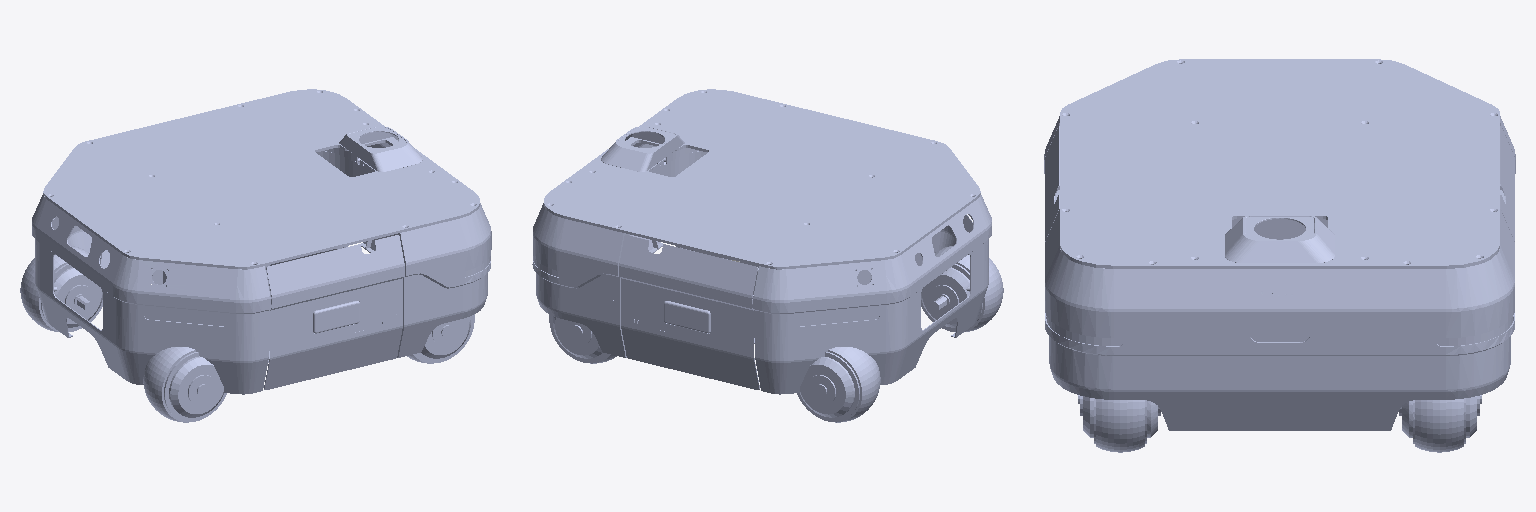
robot.urdf — ranger_air_description:
<?xml version="1.0" encoding="utf-8"?>
<!-- This URDF was automatically created by SolidWorks to URDF Exporter! Originally created by [author] ([email redacted]) 
     Commit Version: 1.6.0-1-g15f4949  Build Version: 1.6.7594.29634
     For more information, please see http://wiki.ros.org/sw_urdf_exporter -->
<robot
  name="ranger_air_description">
  <link
    name="base_link">
    <inertial>
      <origin
        xyz="-0.0269453553477971 4.88289151054452E-05 0.138776943804503"
        rpy="0 0 0" />
      <mass
        value="9.62557497725158" />
      <inertia
        ixx="0.0836578300249299"
        ixy="-0.00247163484979424"
        ixz="0.000109124201879488"
        iyy="0.0555064526888553"
        iyz="7.6528928799148E-07"
        izz="0.127512148927851" />
    </inertial>
    <visual>
      <origin
        xyz="0 0 0"
        rpy="0 0 0" />
      <geometry>
        <mesh
          filename="package://ranger_air_description/meshes/dae/base_link.dae" />
      </geometry>
      <material
        name="">
        <color
          rgba="0.792156862745098 0.819607843137255 0.933333333333333 1" />
      </material>
    </visual>
    <collision>
      <origin
        xyz="0 0 0"
        rpy="0 0 0" />
      <geometry>
        <mesh
          filename="package://ranger_air_description/meshes/dae/base_link.dae" />
      </geometry>
    </collision>
  </link>
  <link
    name="imu_link">
    <inertial>
      <origin
        xyz="-7.51173708920111E-05 7.51173708920406E-05 0.00149999999999999"
        rpy="0 0 0" />
      <mass
        value="0.000426" />
      <inertia
        ixx="5.32909624413146E-09"
        ixy="-1.72403755868542E-10"
        ixz="-2.56308956479191E-24"
        iyy="5.32909624413147E-09"
        iyz="-1.61090078229413E-23"
        izz="1.00191924882629E-08" />
    </inertial>
    <visual>
      <origin
        xyz="0 0 0"
        rpy="0 0 0" />
      <geometry>
        <mesh
          filename="package://ranger_air_description/meshes/imu_link.STL" />
      </geometry>
      <material
        name="">
        <color
          rgba="1 1 1 1" />
      </material>
    </visual>
    <collision>
      <origin
        xyz="0 0 0"
        rpy="0 0 0" />
      <geometry>
        <mesh
          filename="package://ranger_air_description/meshes/imu_link.STL" />
      </geometry>
    </collision>
  </link>
  <joint
    name="imu_joint"
    type="fixed">
    <origin
      xyz="-0.00269279932190335 0.117006197251626 0.172572605714962"
      rpy="1.5707963267949 -1.5707963267949 0" />
    <parent
      link="base_link" />
    <child
      link="imu_link" />
    <axis
      xyz="0 0 0" />
  </joint>
  <link
    name="front_lidar_link">
    <inertial>
      <origin
        xyz="-0.0024322542360638 -7.57434565393234E-06 -0.0156647798701829"
        rpy="0 0 0" />
      <mass
        value="0.0269222563572699" />
      <inertia
        ixx="9.62972066845586E-06"
        ixy="-6.69475455049995E-10"
        ixz="2.48281613499449E-08"
        iyy="9.64981682902064E-06"
        iyz="-1.43263267252535E-11"
        izz="1.74096865451407E-05" />
    </inertial>
    <visual>
      <origin
        xyz="0 0 0"
        rpy="0 0 0" />
      <geometry>
        <mesh
          filename="package://ranger_air_description/meshes/dae/front_lidar_link.dae" />
      </geometry>
      <material
        name="">
        <color
          rgba="1 1 1 1" />
      </material>
    </visual>
    <collision>
      <origin
        xyz="0 0 0"
        rpy="0 0 0" />
      <geometry>
        <mesh
          filename="package://ranger_air_description/meshes/front_lidar_link.STL" />
      </geometry>
    </collision>
  </link>
  <joint
    name="front_lidar_joint"
    type="fixed">
    <origin
      xyz="0.2 -0.175 0.268"
      rpy="0 0 -0.78539816339746" />
    <parent
      link="base_link" />
    <child
      link="front_lidar_link" />
    <axis
      xyz="0 0 0" />
  </joint>
  <link
    name="back_lidar_link">
    <inertial>
      <origin
        xyz="-0.00243225423607701 -7.57434566700521E-06 -0.0156647798701824"
        rpy="0 0 0" />
      <mass
        value="0.0269222563572854" />
      <inertia
        ixx="9.62972066845615E-06"
        ixy="-6.69475455080912E-10"
        ixz="2.4828161349934E-08"
        iyy="9.64981682902092E-06"
        iyz="-1.43263267611196E-11"
        izz="1.74096865451409E-05" />
    </inertial>
    <visual>
      <origin
        xyz="0 0 0"
        rpy="0 0 0" />
      <geometry>
        <mesh
          filename="package://ranger_air_description/meshes/dae/back_lidar_link.dae" />
      </geometry>
      <material
        name="">
        <color
          rgba="1 1 1 1" />
      </material>
    </visual>
    <collision>
      <origin
        xyz="0 0 0"
        rpy="0 0 0" />
      <geometry>
        <mesh
          filename="package://ranger_air_description/meshes/back_lidar_link.STL" />
      </geometry>
    </collision>
  </link>
  <joint
    name="back_lidar_joint"
    type="fixed">
    <origin
      xyz="-0.199999999999958 0.174999999999997 0.268"
      rpy="0 0 2.35619449019234" />
    <parent
      link="base_link" />
    <child
      link="back_lidar_link" />
    <axis
      xyz="0 0 0" />
  </joint>
  <link
    name="camera_link">
    <inertial>
      <origin
        xyz="-0.00781360439226064 -4.62643811109874E-05 0.00015691163838176"
        rpy="0 0 0" />
      <mass
        value="0.0189598021123256" />
      <inertia
        ixx="1.09290416951151E-05"
        ixy="5.74101407704989E-09"
        ixz="-2.17154464045429E-08"
        iyy="1.72930174582617E-06"
        iyz="-8.47818936297681E-09"
        izz="1.0379713403702E-05" />
    </inertial>
    <visual>
      <origin
        xyz="0 0 0"
        rpy="0 0 0" />
      <geometry>
        <mesh
          filename="package://ranger_air_description/meshes/dae/camera_link_v3.dae" />
      </geometry>
      <material
        name="">
        <color
          rgba="1 1 1 1" />
      </material>
    </visual>
    <collision>
      <origin
        xyz="0 0 0"
        rpy="0 0 0" />
      <geometry>
        <mesh
          filename="package://ranger_air_description/meshes/camera_link.STL" />
      </geometry>
    </collision>
  </link>
  <joint
    name="camera_joint"
    type="fixed">
    <origin
      xyz="0.264320690911 0 0.169753030571818"
      rpy="0 -0.139626340159547 0" />
    <parent
      link="base_link" />
    <child
      link="camera_link" />
    <axis
      xyz="0 0 0" />
  </joint>
  <link
    name="fl_steering_link">
    <inertial>
      <origin
        xyz="-4.41226727665167E-05 0.0157129719167315 0.00410410320602114"
        rpy="0 0 0" />
      <mass
        value="0.935307991635668" />
      <inertia
        ixx="0.00108568401565883"
        ixy="7.743516771268E-08"
        ixz="-2.33490054511026E-07"
        iyy="0.00106453940002428"
        iyz="-0.000235815859378652"
        izz="0.0012538948846579" />
    </inertial>
    <visual>
      <origin
        xyz="0 0 0"
        rpy="0 0 0" />
      <geometry>
        <mesh
          filename="package://ranger_air_description/meshes/dae/fl_streering_link.dae" />
      </geometry>
      <material
        name="">
        <color
          rgba="0.752941176470588 0.752941176470588 0.752941176470588 1" />
      </material>
    </visual>
    <collision>
      <origin
        xyz="0 0 0"
        rpy="0 0 0" />
      <geometry>
        <mesh
          filename="package://ranger_air_description/meshes/steering_link1.STL" />
      </geometry>
    </collision>
  </link>
  <joint
    name="fl_steering_joint"
    type="continuous">
    <origin
      xyz="0.194 0.169 0.1355"
      rpy="-3.14159265358979 0 0" />
    <parent
      link="base_link" />
    <child
      link="fl_steering_link" />
    <axis
      xyz="0 0 -1" />
  </joint>
  <link
    name="fl_wheel_link">
    <inertial>
      <origin
        xyz="2.77555756156289E-17 2.77555756156289E-17 -0.000252801407574443"
        rpy="0 0 0" />
      <mass
        value="0.741126743204084" />
      <inertia
        ixx="0.000890769648192525"
        ixy="-5.4135978102862E-25"
        ixz="2.83258046844794E-20"
        iyy="0.000890761023713873"
        iyz="-4.04095046703963E-20"
        izz="0.00113190510709934" />
    </inertial>
    <visual>
      <origin
        xyz="0 0 0"
        rpy="0 0 0" />
      <geometry>
        <mesh
          filename="package://ranger_air_description/meshes/dae/fl_wheel_link.dae" />
      </geometry>
      <material
        name="">
        <color
          rgba="0.792156862745098 0.819607843137255 0.933333333333333 1" />
      </material>
    </visual>
    <collision>
      <origin
        xyz="0 0 0"
        rpy="0 0 0" />
      <geometry>
        <mesh
          filename="package://ranger_air_description/meshes/wheel_link1.STL" />
      </geometry>
    </collision>
  </link>
  <joint
    name="fl_wheel_joint"
    type="continuous">
    <origin
      xyz="0 0 0.0749999999999999"
      rpy="1.5707963267949 0 0" />
    <parent
      link="fl_steering_link" />
    <child
      link="fl_wheel_link" />
    <axis
      xyz="0 0 -1" />
  </joint>
  <link
    name="fr_steering_link">
    <inertial>
      <origin
        xyz="4.41226727666E-05 -0.0157129719167314 0.00410410320602098"
        rpy="0 0 0" />
      <mass
        value="0.93530799163567" />
      <inertia
        ixx="0.00108568401565883"
        ixy="7.74351677124048E-08"
        ixz="2.33490054510254E-07"
        iyy="0.00106453940002428"
        iyz="0.000235815859378651"
        izz="0.0012538948846579" />
    </inertial>
    <visual>
      <origin
        xyz="0 0 0"
        rpy="0 0 0" />
      <geometry>
        <mesh
          filename="package://ranger_air_description/meshes/dae/fr_steering_link.dae" />
      </geometry>
      <material
        name="">
        <color
          rgba="0.752941176470588 0.752941176470588 0.752941176470588 1" />
      </material>
    </visual>
    <collision>
      <origin
        xyz="0 0 0"
        rpy="0 0 0" />
      <geometry>
        <mesh
          filename="package://ranger_air_description/meshes/steering_link2.STL" />
      </geometry>
    </collision>
  </link>
  <joint
    name="fr_steering_joint"
    type="continuous">
    <origin
      xyz="0.194 -0.169 0.1355"
      rpy="3.14159265358979 0 0" />
    <parent
      link="base_link" />
    <child
      link="fr_steering_link" />
    <axis
      xyz="0 0 -1" />
  </joint>
  <link
    name="fr_wheel_link">
    <inertial>
      <origin
        xyz="2.77555756156289E-17 2.77555756156289E-17 0.000252801407574443"
        rpy="0 0 0" />
      <mass
        value="0.741126743204084" />
      <inertia
        ixx="0.000890769648192525"
        ixy="2.66918709362604E-24"
        ixz="2.16085103308491E-20"
        iyy="0.000890761023713874"
        iyz="6.4878824945206E-20"
        izz="0.00113190510709934" />
    </inertial>
    <visual>
      <origin
        xyz="0 0 0"
        rpy="0 0 0" />
      <geometry>
        <mesh
          filename="package://ranger_air_description/meshes/dae/fr_wheel_link.dae" />
      </geometry>
      <material
        name="">
        <color
          rgba="0.792156862745098 0.819607843137255 0.933333333333333 1" />
      </material>
    </visual>
    <collision>
      <origin
        xyz="0 0 0"
        rpy="0 0 0" />
      <geometry>
        <mesh
          filename="package://ranger_air_description/meshes/wheel_link2.STL" />
      </geometry>
    </collision>
  </link>
  <joint
    name="fr_wheel_joint"
    type="continuous">
    <origin
      xyz="0 0 0.0749999999999999"
      rpy="1.5707963267949 0 0" />
    <parent
      link="fr_steering_link" />
    <child
      link="fr_wheel_link" />
    <axis
      xyz="0 0 -1" />
  </joint>
  <link
    name="rr_steering_link">
    <inertial>
      <origin
        xyz="4.41226716285104E-05 -0.0157129719156636 0.0041041032048897"
        rpy="0 0 0" />
      <mass
        value="0.935307991753156" />
      <inertia
        ixx="0.0010856840156653"
        ixy="7.74351596728921E-08"
        ixz="2.33490057369179E-07"
        iyy="0.00106453940003436"
        iyz="0.000235815859380944"
        izz="0.00125389488467438" />
    </inertial>
    <visual>
      <origin
        xyz="0 0 0"
        rpy="0 0 0" />
      <geometry>
        <mesh
          filename="package://ranger_air_description/meshes/dae/rr_steering_link.dae" />
      </geometry>
      <material
        name="">
        <color
          rgba="0.752941176470588 0.752941176470588 0.752941176470588 1" />
      </material>
    </visual>
    <collision>
      <origin
        xyz="0 0 0"
        rpy="0 0 0" />
      <geometry>
        <mesh
          filename="package://ranger_air_description/meshes/steering_link3.STL" />
      </geometry>
    </collision>
  </link>
  <joint
    name="rr_steering_joint"
    type="continuous">
    <origin
      xyz="-0.194 -0.169 0.1365"
      rpy="3.14159265358979 0 0" />
    <parent
      link="base_link" />
    <child
      link="rr_steering_link" />
    <axis
      xyz="0 0 1" />
  </joint>
  <link
    name="rr_wheel_link">
    <inertial>
      <origin
        xyz="-2.77555756156289E-17 2.77555756156289E-17 0.000252801407574471"
        rpy="0 0 0" />
      <mass
        value="0.741126743204084" />
      <inertia
        ixx="0.000890769648192525"
        ixy="3.99267607366746E-24"
        ixz="2.79728229390156E-20"
        iyy="0.000890761023713874"
        iyz="6.48770386799988E-20"
        izz="0.00113190510709934" />
    </inertial>
    <visual>
      <origin
        xyz="0 0 0"
        rpy="0 0 0" />
      <geometry>
        <mesh
          filename="package://ranger_air_description/meshes/dae/rr_wheel_link.dae" />
      </geometry>
      <material
        name="">
        <color
          rgba="0.792156862745098 0.819607843137255 0.933333333333333 1" />
      </material>
    </visual>
    <collision>
      <origin
        xyz="0 0 0"
        rpy="0 0 0" />
      <geometry>
        <mesh
          filename="package://ranger_air_description/meshes/wheel_link3.STL" />
      </geometry>
    </collision>
  </link>
  <joint
    name="rr_wheel_joint"
    type="continuous">
    <origin
      xyz="0 0 0.0749999999999999"
      rpy="1.5707963267949 0 0" />
    <parent
      link="rr_steering_link" />
    <child
      link="rr_wheel_link" />
    <axis
      xyz="0 0 -1" />
  </joint>
  <link
    name="rl_steering_link">
    <inertial>
      <origin
        xyz="-4.41226727664334E-05 0.0157129719167315 0.00410410320602111"
        rpy="0 0 0" />
      <mass
        value="0.935307991635669" />
      <inertia
        ixx="0.00108568401565883"
        ixy="7.74351677138188E-08"
        ixz="-2.3349005451069E-07"
        iyy="0.00106453940002428"
        iyz="-0.000235815859378651"
        izz="0.0012538948846579" />
    </inertial>
    <visual>
      <origin
        xyz="0 0 0"
        rpy="0 0 0" />
      <geometry>
        <mesh
          filename="package://ranger_air_description/meshes/dae/rl_steering_link.dae" />
      </geometry>
      <material
        name="">
        <color
          rgba="0.752941176470588 0.752941176470588 0.752941176470588 1" />
      </material>
    </visual>
    <collision>
      <origin
        xyz="0 0 0"
        rpy="0 0 0" />
      <geometry>
        <mesh
          filename="package://ranger_air_description/meshes/steering_link4.STL" />
      </geometry>
    </collision>
  </link>
  <joint
    name="rl_steering_joint"
    type="continuous">
    <origin
      xyz="-0.194 0.169 0.1365"
      rpy="3.14159265358979 0 0" />
    <parent
      link="base_link" />
    <child
      link="rl_steering_link" />
    <axis
      xyz="0 0 -1" />
  </joint>
  <link
    name="rl_wheel_link">
    <inertial>
      <origin
        xyz="0 0 -0.000252801407574471"
        rpy="0 0 0" />
      <mass
        value="0.741126743204084" />
      <inertia
        ixx="0.000890769648192525"
        ixy="-4.04510352288153E-24"
        ixz="9.43709781956294E-21"
        iyy="0.000890761023713874"
        iyz="-1.30478774219597E-19"
        izz="0.00113190510709935" />
    </inertial>
    <visual>
      <origin
        xyz="0 0 0"
        rpy="0 0 0" />
      <geometry>
        <mesh
          filename="package://ranger_air_description/meshes/dae/rl_wheel_link.dae" />
      </geometry>
      <material
        name="">
        <color
          rgba="0.792156862745098 0.819607843137255 0.933333333333333 1" />
      </material>
    </visual>
    <collision>
      <origin
        xyz="0 0 0"
        rpy="0 0 0" />
      <geometry>
        <mesh
          filename="package://ranger_air_description/meshes/wheel_link4.STL" />
      </geometry>
    </collision>
  </link>
  <joint
    name="rl_wheel_joint"
    type="continuous">
    <origin
      xyz="0 0 0.0749999999999999"
      rpy="1.5707963267949 0 0" />
    <parent
      link="rl_steering_link" />
    <child
      link="rl_wheel_link" />
    <axis
      xyz="0 0 1" />
  </joint>
</robot>

--- Render facts (derived) ---
The picture shows the robot from 3 angles, left to right: view 1: azimuth 30°, elevation 25°; view 2: azimuth 150°, elevation 25°; view 3: azimuth 270°, elevation 25°; orthographic projection.
Robot: ranger_air_description — 13 links, 12 joints (8 continuous, 4 fixed); root link base_link; default pose: every joint at zero.
Visible links, largest first — view 1: base_link, rr_wheel_link, rl_wheel_link, fr_wheel_link; view 2: base_link, rl_wheel_link, rr_wheel_link, fl_wheel_link; view 3: base_link, fl_wheel_link, fr_wheel_link.
Link boxes in pixels (x1=…): base_link: x1=32, y1=89, x2=491, y2=394; rr_wheel_link: x1=143, y1=347, x2=226, y2=422; rl_wheel_link: x1=20, y1=246, x2=102, y2=332; fr_wheel_link: x1=407, y1=314, x2=474, y2=363; base_link: x1=532, y1=89, x2=991, y2=394; rl_wheel_link: x1=797, y1=347, x2=880, y2=422; rr_wheel_link: x1=921, y1=246, x2=1003, y2=332; fl_wheel_link: x1=549, y1=314, x2=616, y2=363; base_link: x1=1044, y1=59, x2=1515, y2=430; fl_wheel_link: x1=1399, y1=395, x2=1481, y2=452; fr_wheel_link: x1=1078, y1=395, x2=1160, y2=452.
Size in the robot's own frame: 0.549 by 0.499 by 0.263 metres.
6 mesh visuals loaded from 13 distinct referenced files (1 binary STL, 5 Collada DAE); not drawn: 7 (reference not matched to a file when rendering).